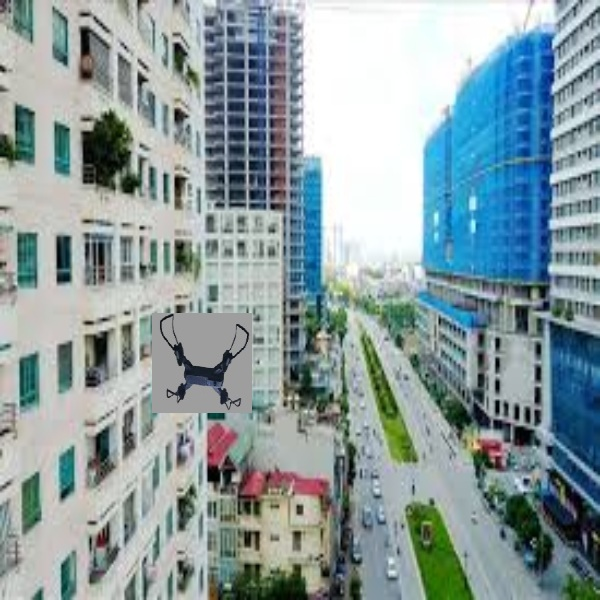drone: (151, 314, 252, 413)
